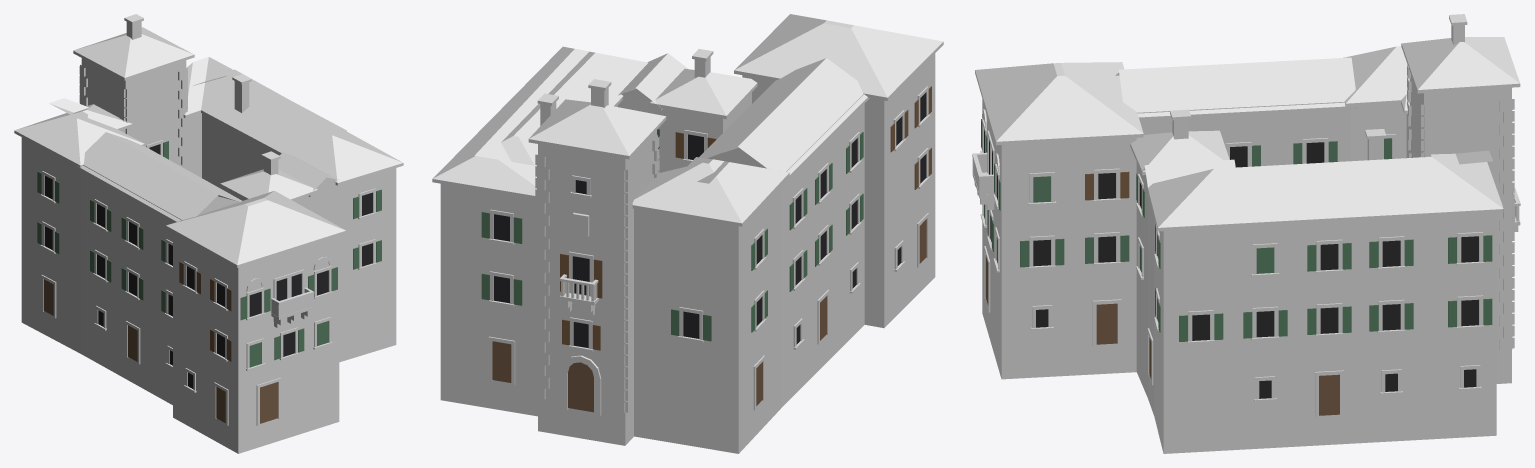
Rendered from cipiko-stari.glb.
The picture shows the model from 3 angles, left to right: view 1: azimuth 30°, elevation 25°; view 2: azimuth 150°, elevation 25°; view 3: azimuth 270°, elevation 25°; orthographic projection. The views are drawn at different scales.
Visible parts, largest first — view 1: cipiko-stari_LOD0; view 2: cipiko-stari_LOD0; view 3: cipiko-stari_LOD0.
Boxes of the visible parts, bbox=[...] form: cipiko-stari_LOD0: bbox=[14, 14, 403, 453]; cipiko-stari_LOD0: bbox=[432, 14, 943, 453]; cipiko-stari_LOD0: bbox=[972, 14, 1520, 453].
Size of what is drawn, in the model's own units: 18.3 by 18.02 by 25.82.
